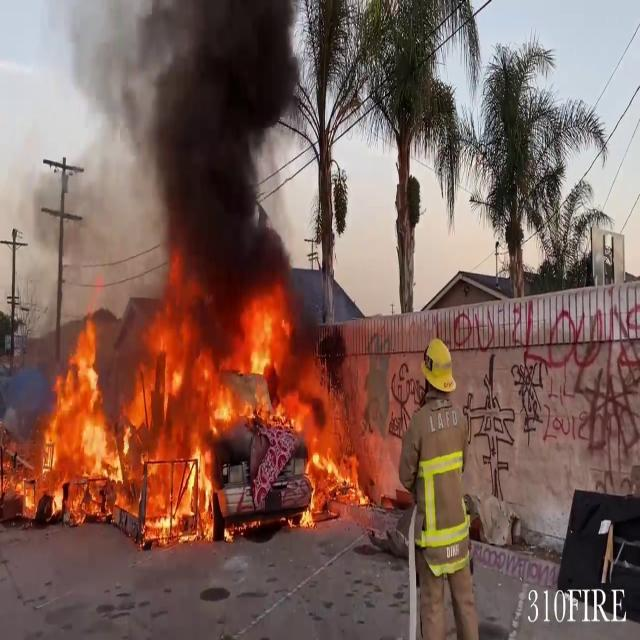Fire: (6, 286, 370, 540)
Smoke: (99, 0, 309, 301)
